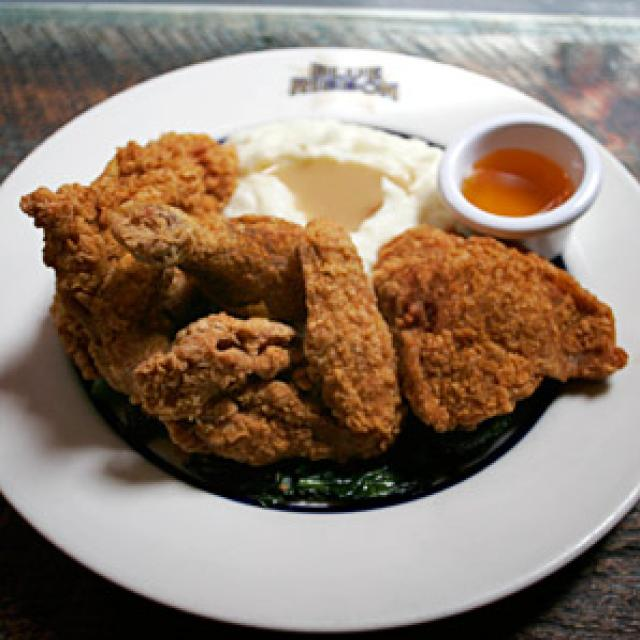Frango: (20, 134, 629, 466)
